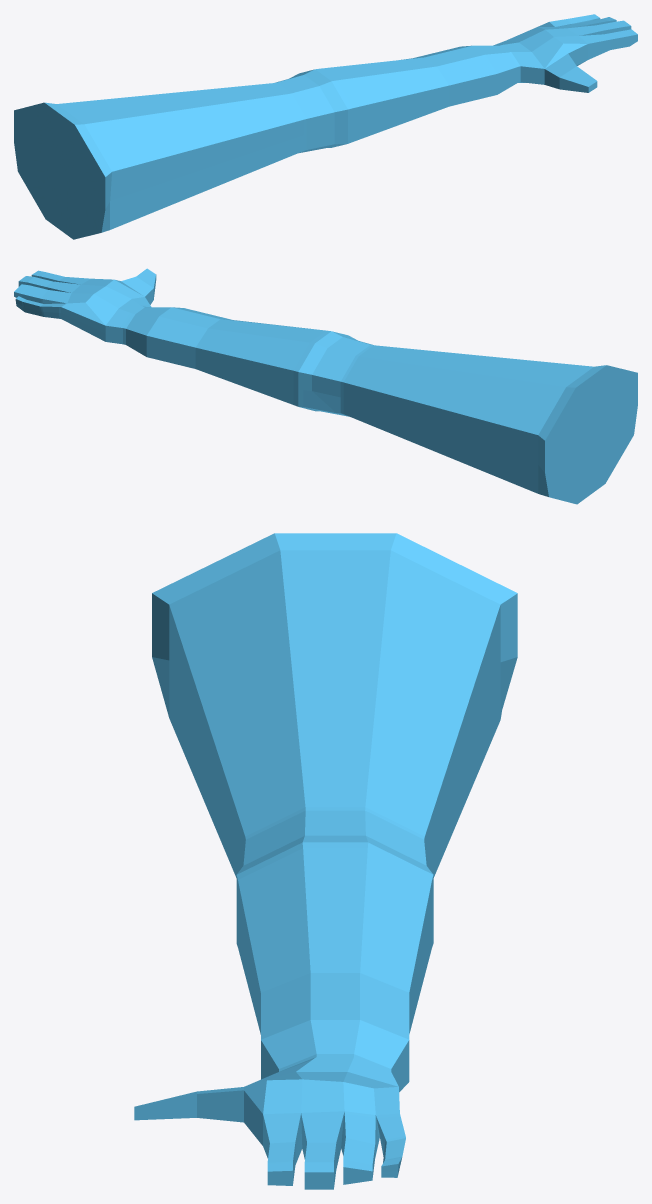
The model's file is fps_arms_WIP.glb.
3 renders of one model, top to bottom at view 1: azimuth 30°, elevation 25°; view 2: azimuth 150°, elevation 25°; view 3: azimuth 270°, elevation 25°, orthographic. The views are drawn at different scales.
Parts seen in each view (by area): view 1: LeftHand; view 2: LeftHand; view 3: LeftHand.
Boxes of the visible parts, box(x1,y1,x2,y2) form: LeftHand: box(14, 14, 637, 239); LeftHand: box(14, 268, 637, 504); LeftHand: box(134, 533, 517, 1189).
Bounding box in the file's own units: 0.2588 × 0.0508 × 0.0762.
